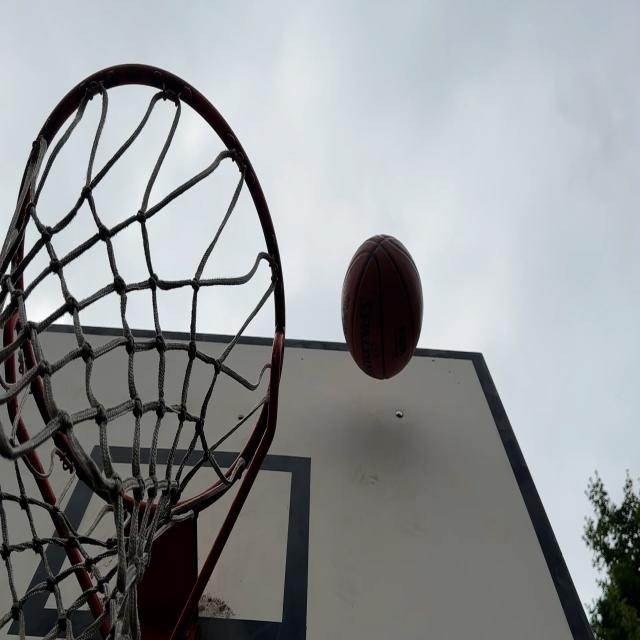Basketball: (340, 236, 422, 381)
